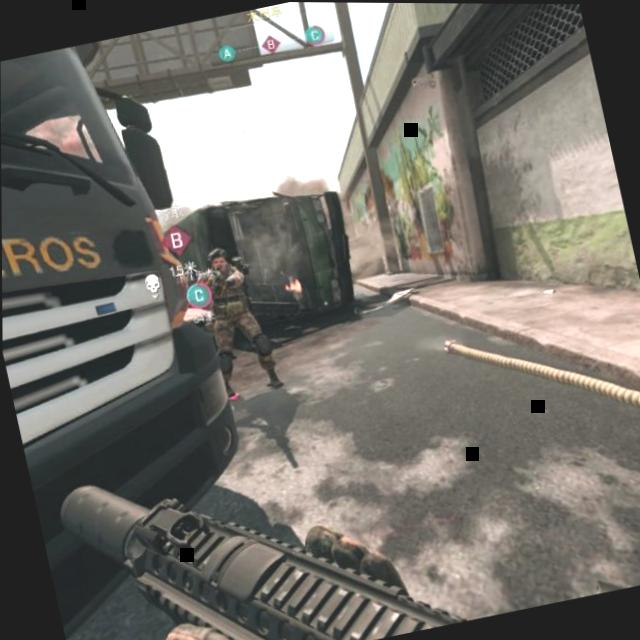MW2_body: (194, 240, 284, 400)
